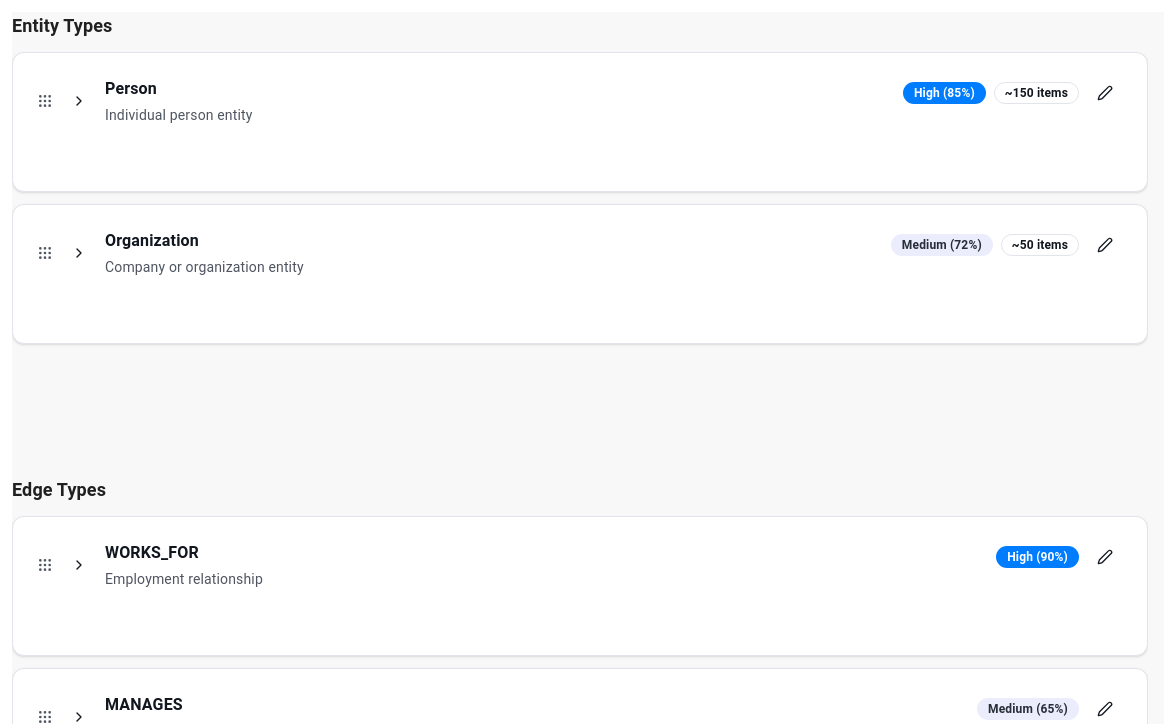
Scenario: TypeReviewPanel › expands and collapses type details
Expected: the text "John Doe" is not shown
Click the 1st button: [79, 101] box [61,93,97,109]
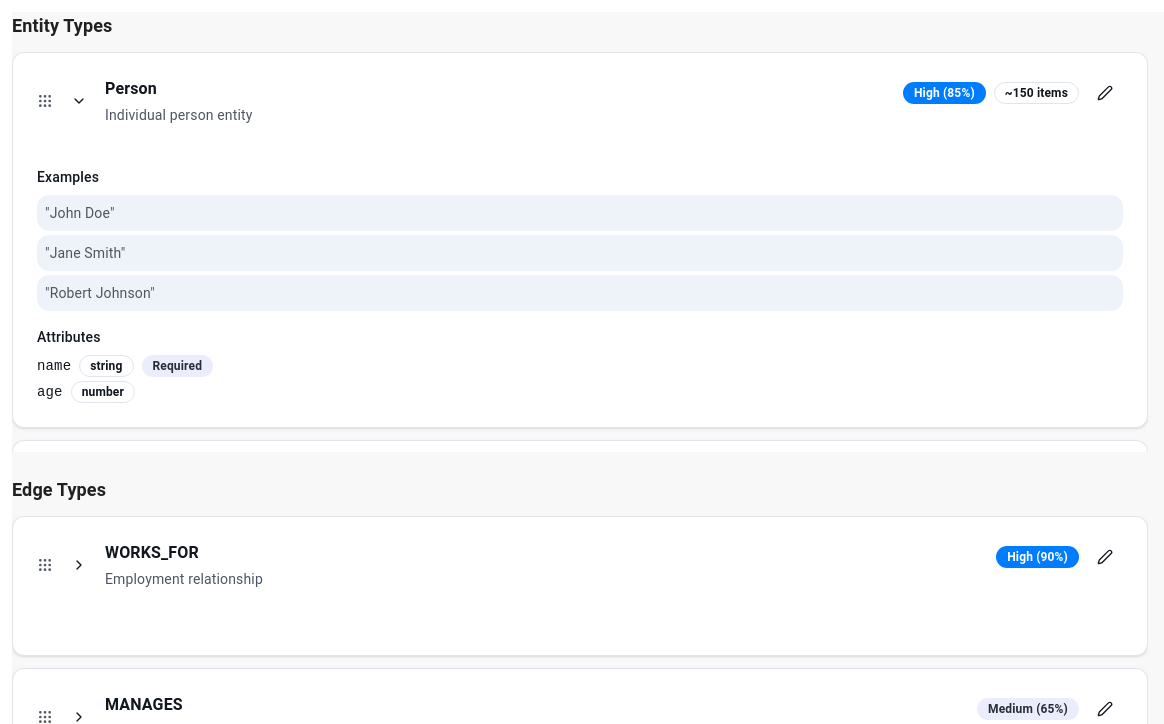
Expected: the text "\"John Doe\"" is shown, [37,195,1123,231]
Click the 1st button: [79, 101] box [61,93,97,109]
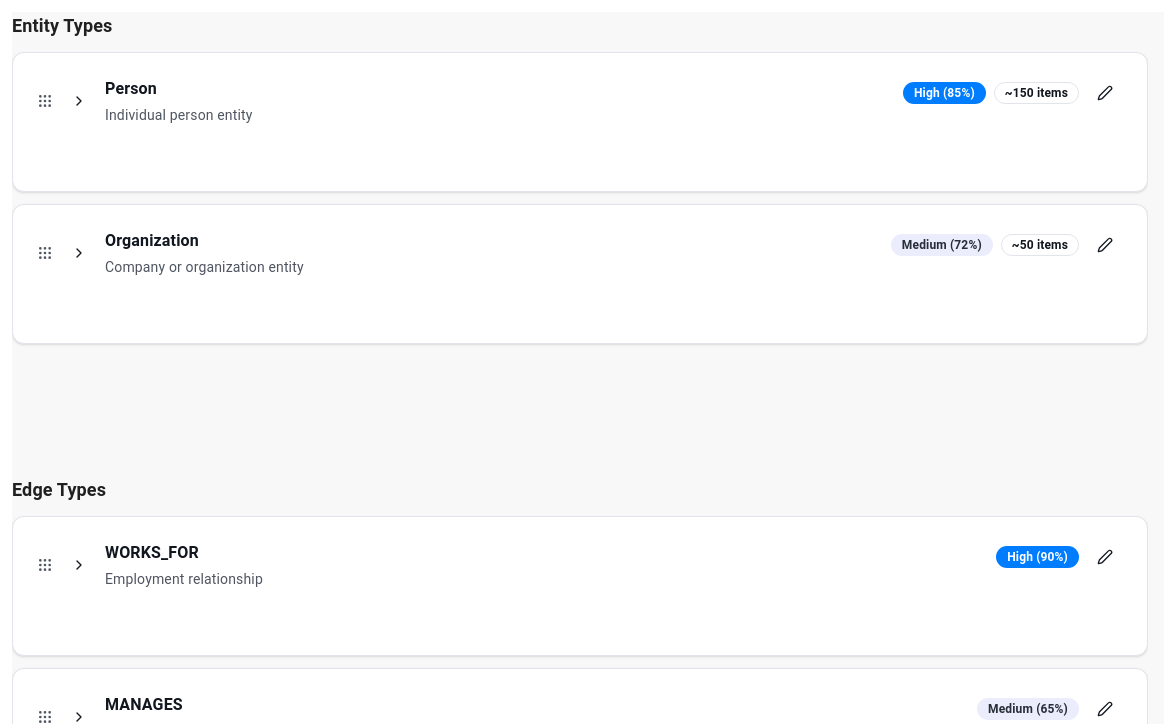
Expected: the text "\"John Doe\"" is gone
